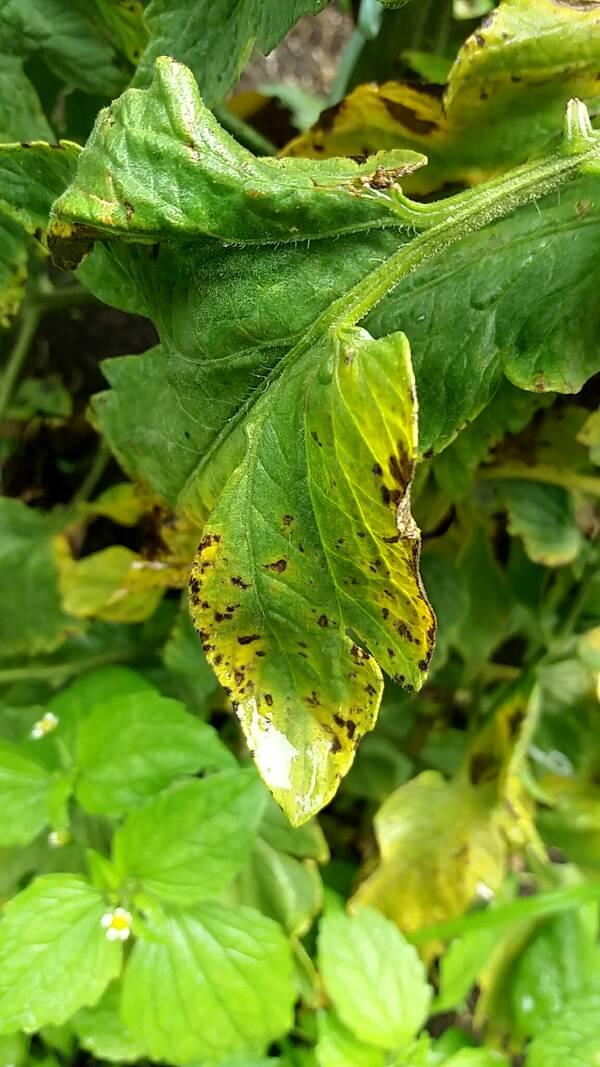Bacterial Spot: (45, 58, 448, 837)
